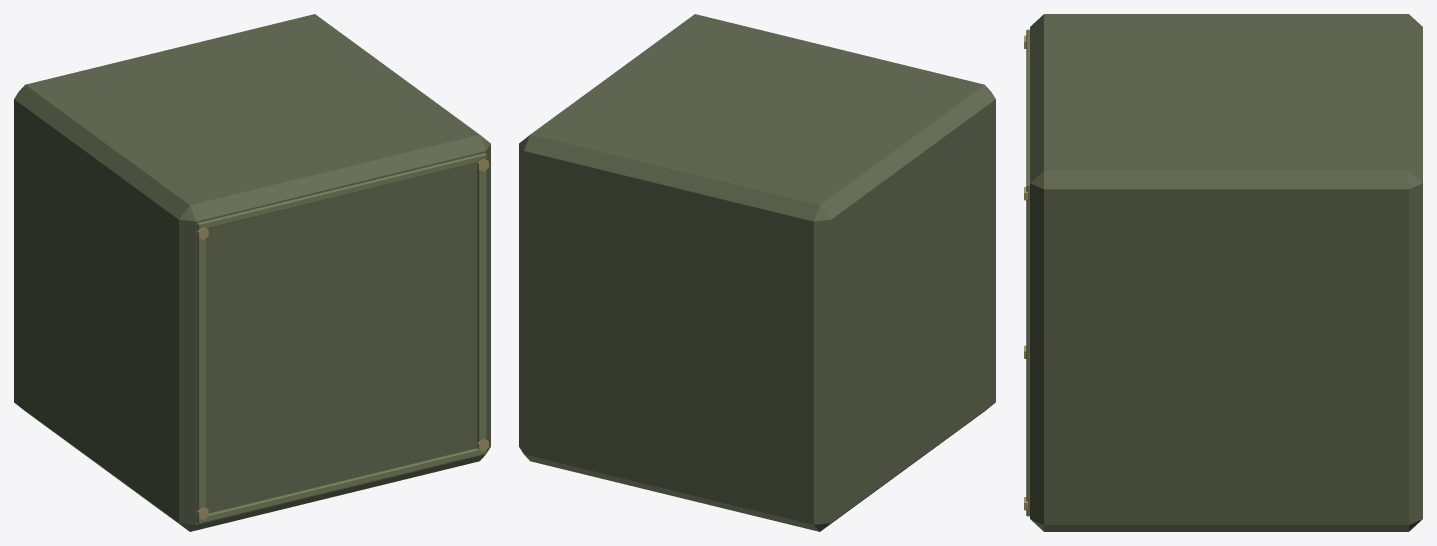
The model's file is metalStructure.obj.
The picture shows the model from 3 angles, left to right: view 1: azimuth 30°, elevation 25°; view 2: azimuth 150°, elevation 25°; view 3: azimuth 270°, elevation 25°; orthographic projection. The views are drawn at different scales.
Parts seen in each view (by area): view 1: metalStructure; view 2: metalStructure; view 3: metalStructure.
Part boxes in pixels (x1,y1,x2,y2): metalStructure: (14, 14, 490, 531); metalStructure: (519, 14, 995, 531); metalStructure: (1024, 14, 1422, 531).
Bounding box in the file's own units: 1 × 1 × 1.
1 material, 1 textured.
